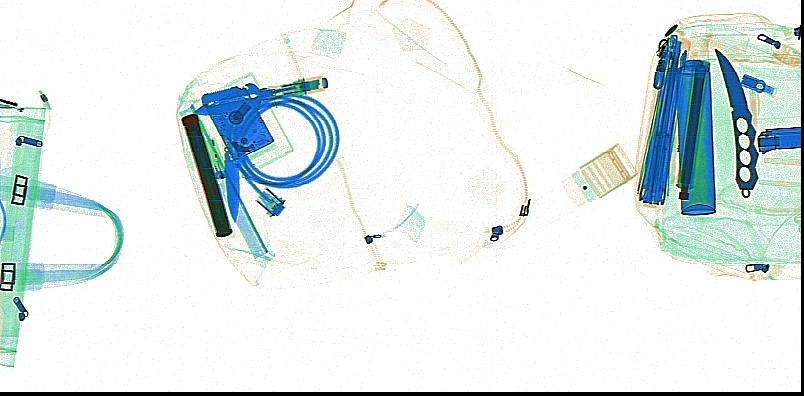knife: (713, 47, 758, 198), (191, 75, 328, 117), (222, 93, 239, 221)
pressure: (673, 36, 716, 215)
